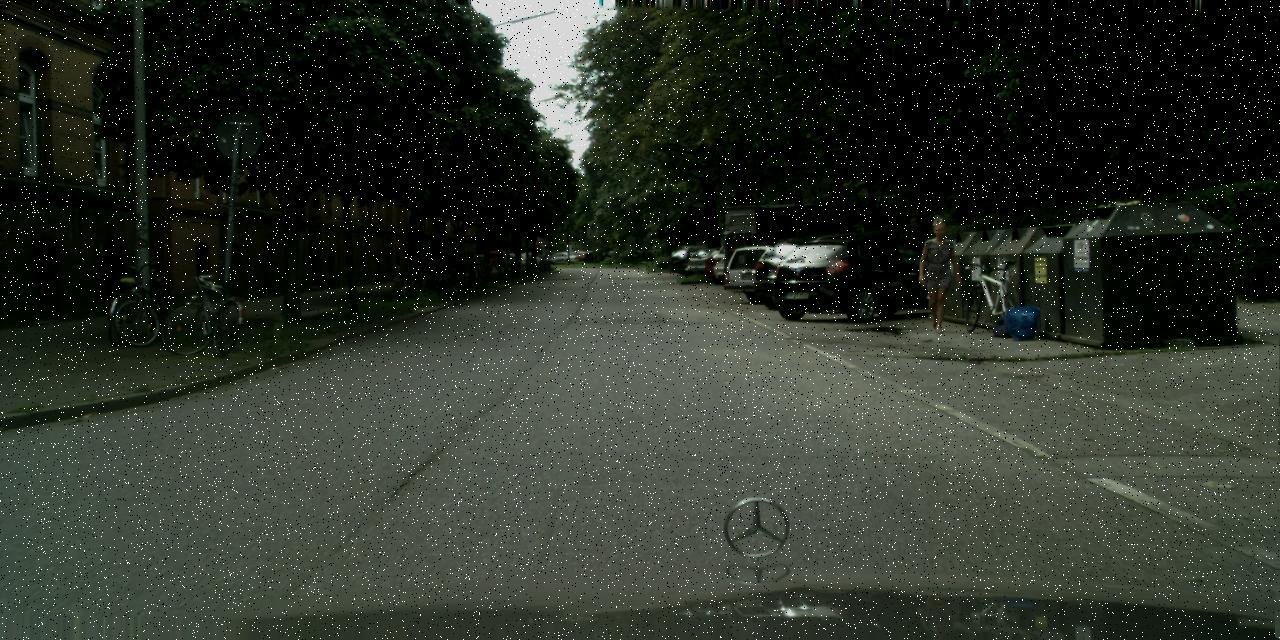ped: (915, 217, 960, 327)
